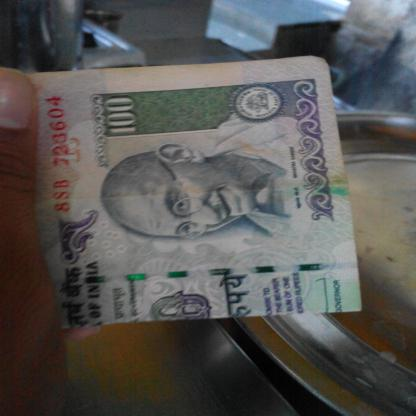Old100Front: (27, 54, 364, 329)
